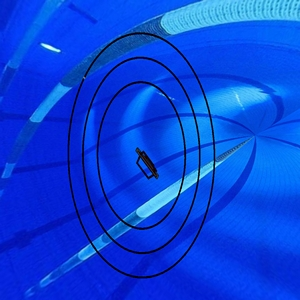circle: (68, 31, 216, 280)
submarine: (130, 147, 162, 183)
